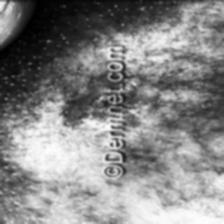Potentially Malignant Skin Tumors: (66, 86, 102, 124), (131, 66, 150, 122)
